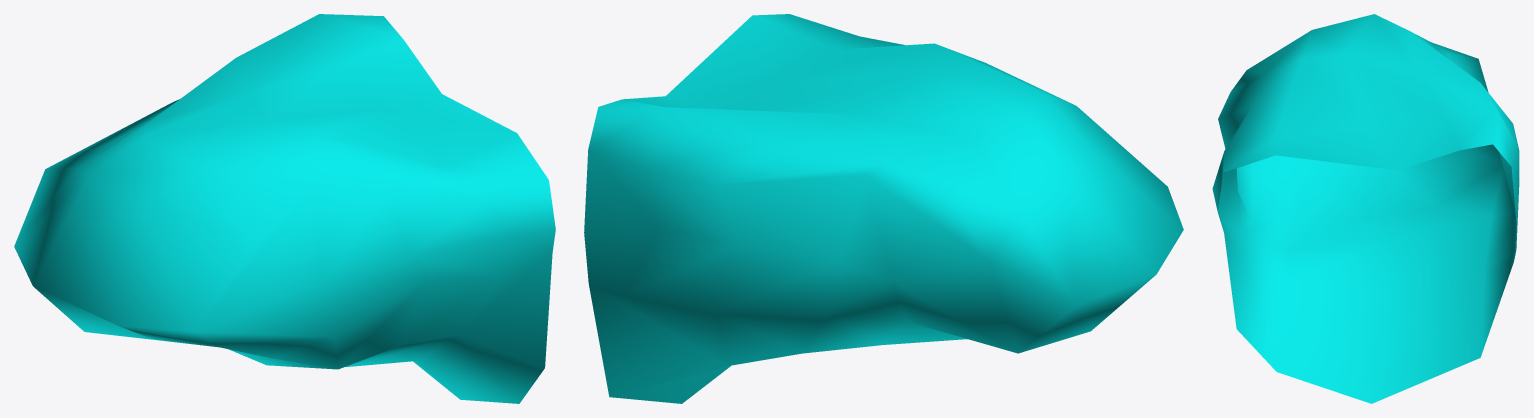
Rendered from BigWallAttachment03_mesh.fbx.
3 views of the same model, side by side, from view 1: azimuth 30°, elevation 25°; view 2: azimuth 150°, elevation 25°; view 3: azimuth 270°, elevation 25° (orthographic). The views are drawn at different scales.
Visible parts, largest first — view 1: Big_wallattachment03_model; view 2: Big_wallattachment03_model; view 3: Big_wallattachment03_model.
Part boxes in pixels (x1,y1,x2,y2): Big_wallattachment03_model: (14, 14, 555, 403); Big_wallattachment03_model: (584, 14, 1183, 403); Big_wallattachment03_model: (1212, 14, 1519, 403).
Size of the model in its own units: 40.95 by 31.25 by 31.9.
